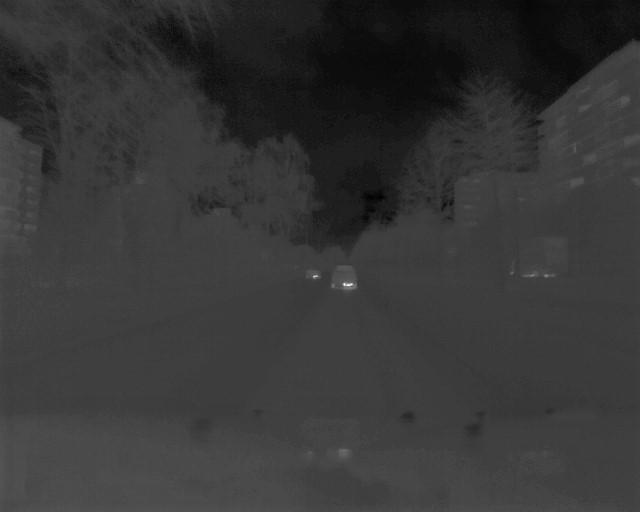car: (330, 263, 360, 291)
